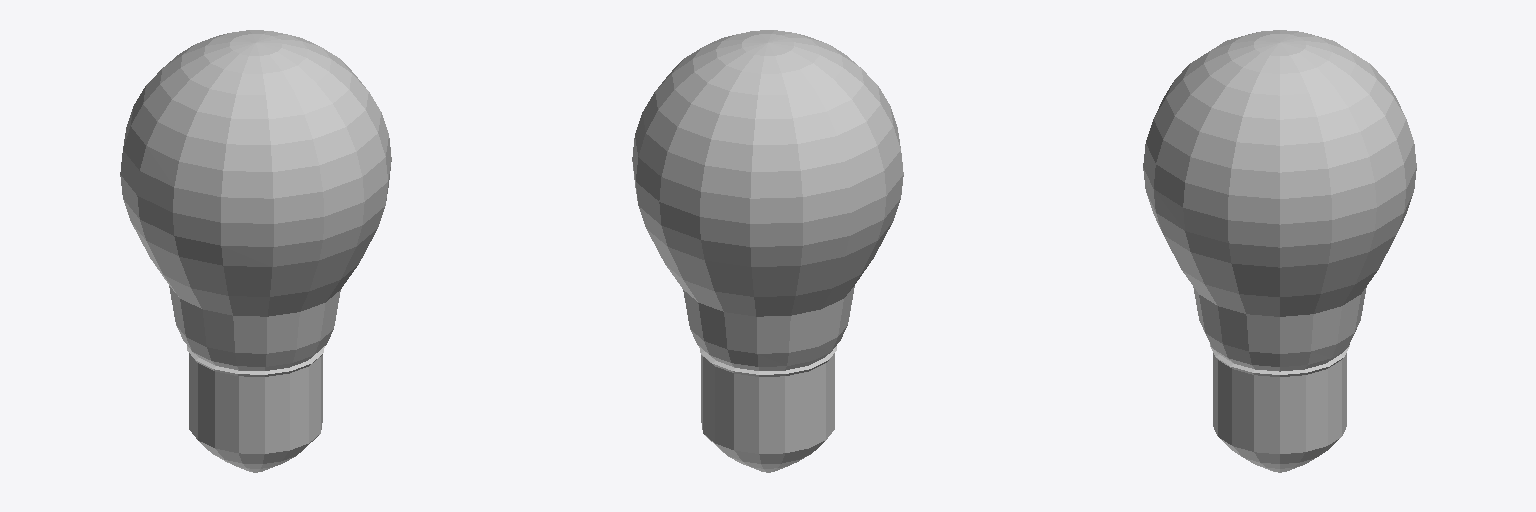
Rendered from light_bulb.obj.
3 renders of one model, left to right at view 1: azimuth 30°, elevation 25°; view 2: azimuth 150°, elevation 25°; view 3: azimuth 270°, elevation 25°, orthographic.
Parts seen in each view (by area): view 1: Circle.002_Circle.013; view 2: Circle.002_Circle.013; view 3: Circle.002_Circle.013.
Boxes of the visible parts, <box> form: Circle.002_Circle.013: <box>120,30,391,472</box>; Circle.002_Circle.013: <box>632,30,903,472</box>; Circle.002_Circle.013: <box>1143,30,1416,472</box>.
Bounding box in the file's own units: 0.0246 × 0.0423 × 0.0246.